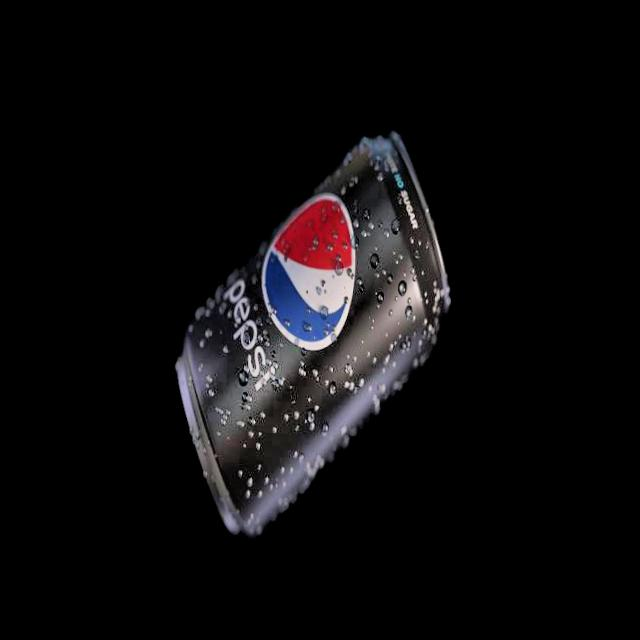can: (148, 99, 477, 562)
